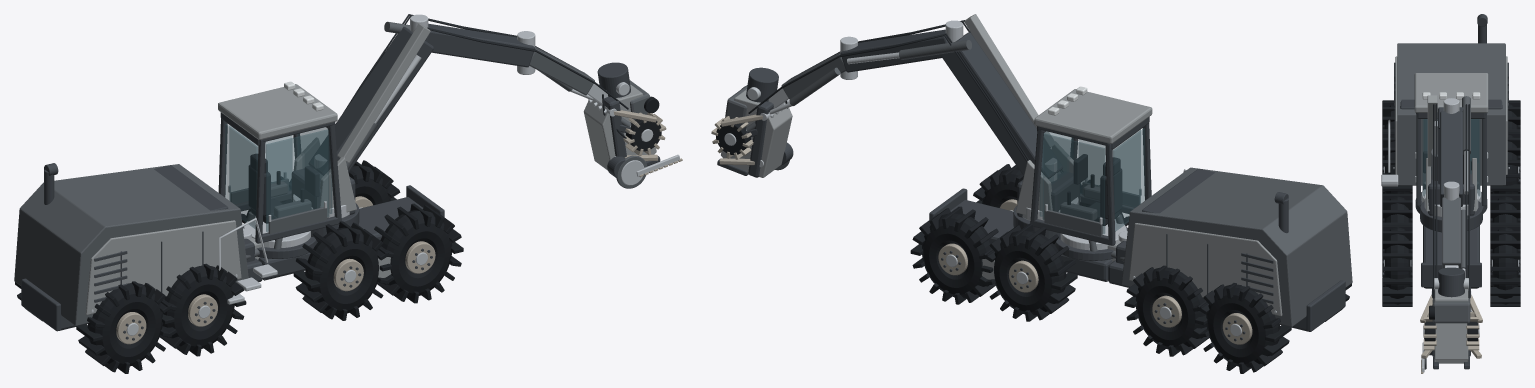
File: john-deere-1270g-structural-study.glb
3 renders of one model, left to right at view 1: azimuth 30°, elevation 25°; view 2: azimuth 150°, elevation 25°; view 3: azimuth 270°, elevation 25°, orthographic. The views are drawn at different scales.
Parts seen in each view (by area): view 1: PowerUnit_Core, PowerServicePanel_L, CabSideGlass_L, CabRoof, Front_Rear_L_Tire, CH7_InnerBoom, Front_Front_L_Tire, Rear_Rear_L_Tire, Rear_Front_L_Tire, CH7_OuterBoom, CabRearGlass, CabSideGlass_R (+25 smaller); view 2: PowerUnit_Core, PowerServicePanel_R, CH7_InnerBoom, CabSideGlass_R, CabRoof, Front_Rear_R_Tire, Front_Front_R_Tire, Rear_Rear_R_Tire, Rear_Front_R_Tire, CabRearGlass, CabSideGlass_L, CH7_OuterBoom (+28 smaller); view 3: PowerUnit_Core, CabRoof, CH7_OuterBoom, H480C_HeadMainHousing_Reconstructed, CH7_TelescopeHousing, FrontFrame_MainRail, Front_Front_L_Tire, Front_Front_R_Tire, CabFrontGlass, H480C_ValveCover_Reconstructed, H480C_RotatorHousing_Reconstructed, CarrierFrontDatumCap (+60 smaller).
Boxes of the visible parts, left/top/right/bottom form: PowerUnit_Core: left=14, top=164, right=248, bottom=325; PowerServicePanel_L: left=85, top=220, right=241, bottom=315; CabSideGlass_L: left=266, top=129, right=329, bottom=231; CabRoof: left=218, top=84, right=337, bottom=139; Front_Rear_L_Tire: left=305, top=227, right=378, bottom=314; CH7_InnerBoom: left=309, top=26, right=433, bottom=175; Front_Front_L_Tire: left=380, top=210, right=452, bottom=296; Rear_Rear_L_Tire: left=87, top=283, right=162, bottom=367; Rear_Front_L_Tire: left=162, top=265, right=234, bottom=349; CH7_OuterBoom: left=425, top=23, right=534, bottom=67; CabRearGlass: left=225, top=124, right=257, bottom=229; CabSideGlass_R: left=229, top=125, right=292, bottom=203; PowerUnit_Core: left=1121, top=167, right=1352, bottom=326; PowerServicePanel_R: left=1129, top=223, right=1282, bottom=316; CH7_InnerBoom: left=940, top=32, right=1062, bottom=178; CabSideGlass_R: left=1042, top=133, right=1105, bottom=234; CabRoof: left=1034, top=89, right=1152, bottom=143; Front_Rear_R_Tire: left=994, top=230, right=1066, bottom=315; Front_Front_R_Tire: left=922, top=213, right=992, bottom=298; Rear_Rear_R_Tire: left=1206, top=284, right=1280, bottom=367; Rear_Front_R_Tire: left=1135, top=267, right=1206, bottom=350; CabRearGlass: left=1113, top=128, right=1145, bottom=231; CabSideGlass_L: left=1078, top=129, right=1140, bottom=206; CH7_OuterBoom: left=840, top=29, right=948, bottom=72; PowerUnit_Core: left=1397, top=43, right=1505, bottom=185; CabRoof: left=1414, top=73, right=1488, bottom=112; CH7_OuterBoom: left=1440, top=111, right=1462, bottom=206; H480C_HeadMainHousing_Reconstructed: left=1434, top=289, right=1468, bottom=363; CH7_TelescopeHousing: left=1442, top=197, right=1460, bottom=268; FrontFrame_MainRail: left=1423, top=225, right=1479, bottom=288; Front_Front_L_Tire: left=1384, top=227, right=1410, bottom=304; Front_Front_R_Tire: left=1492, top=227, right=1518, bottom=304; CabFrontGlass: left=1422, top=119, right=1480, bottom=196; H480C_ValveCover_Reconstructed: left=1432, top=298, right=1470, bottom=323; H480C_RotatorHousing_Reconstructed: left=1438, top=267, right=1464, bottom=297; CarrierFrontDatumCap: left=1421, top=262, right=1481, bottom=287.
Size of the model in its own units: 12.77 by 4.85 by 2.8.
